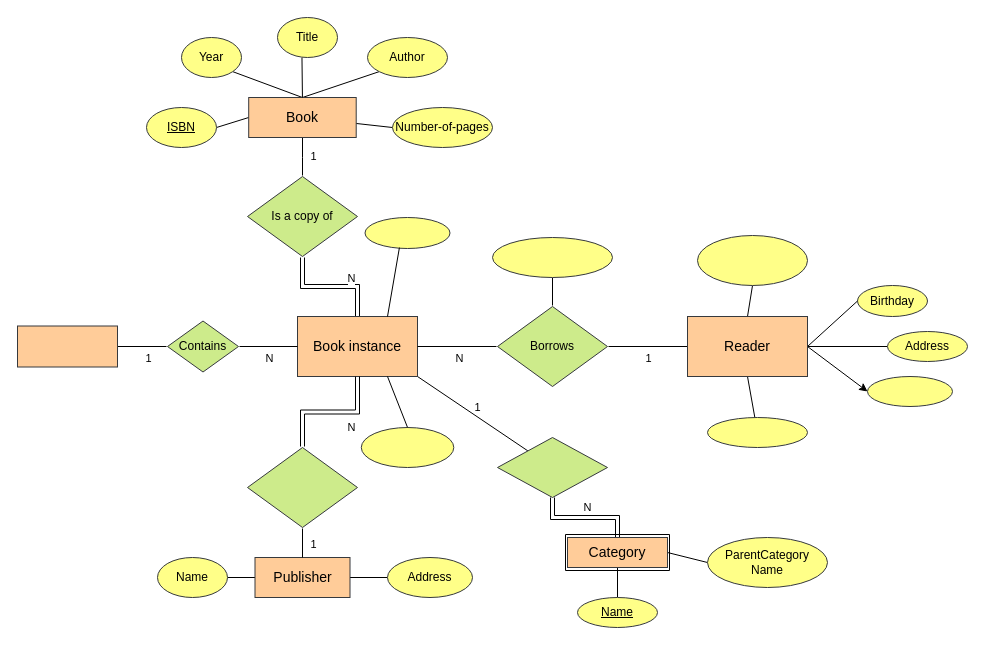
Some shapes in this 985 by 645 pixel diagram are drawn without their labels. The shapes that lost their labels are listed below. From the top down, each one's box as (x1, y1, x2, y2) in pixels, then its label:
(364, 216, 450, 248): CopyNumber
(492, 236, 612, 278): Return date
(696, 234, 808, 286): Reader-number
(16, 325, 118, 367): Library
(866, 376, 952, 406): First name
(360, 426, 454, 468): Position on a Shelf
(706, 416, 808, 448): Last name
(246, 446, 358, 528): Published by
(496, 436, 608, 498): Has a
